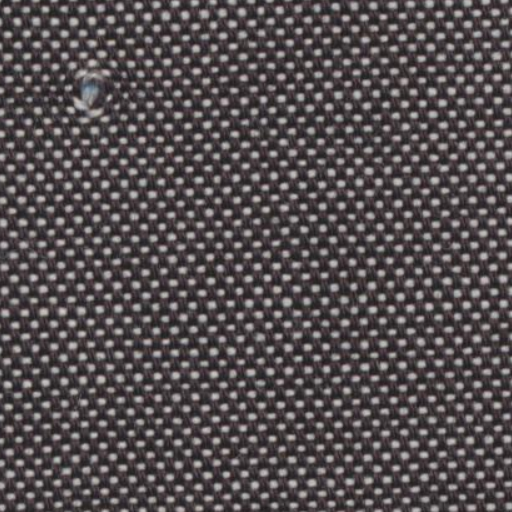PoDong: (46, 48, 144, 135)
